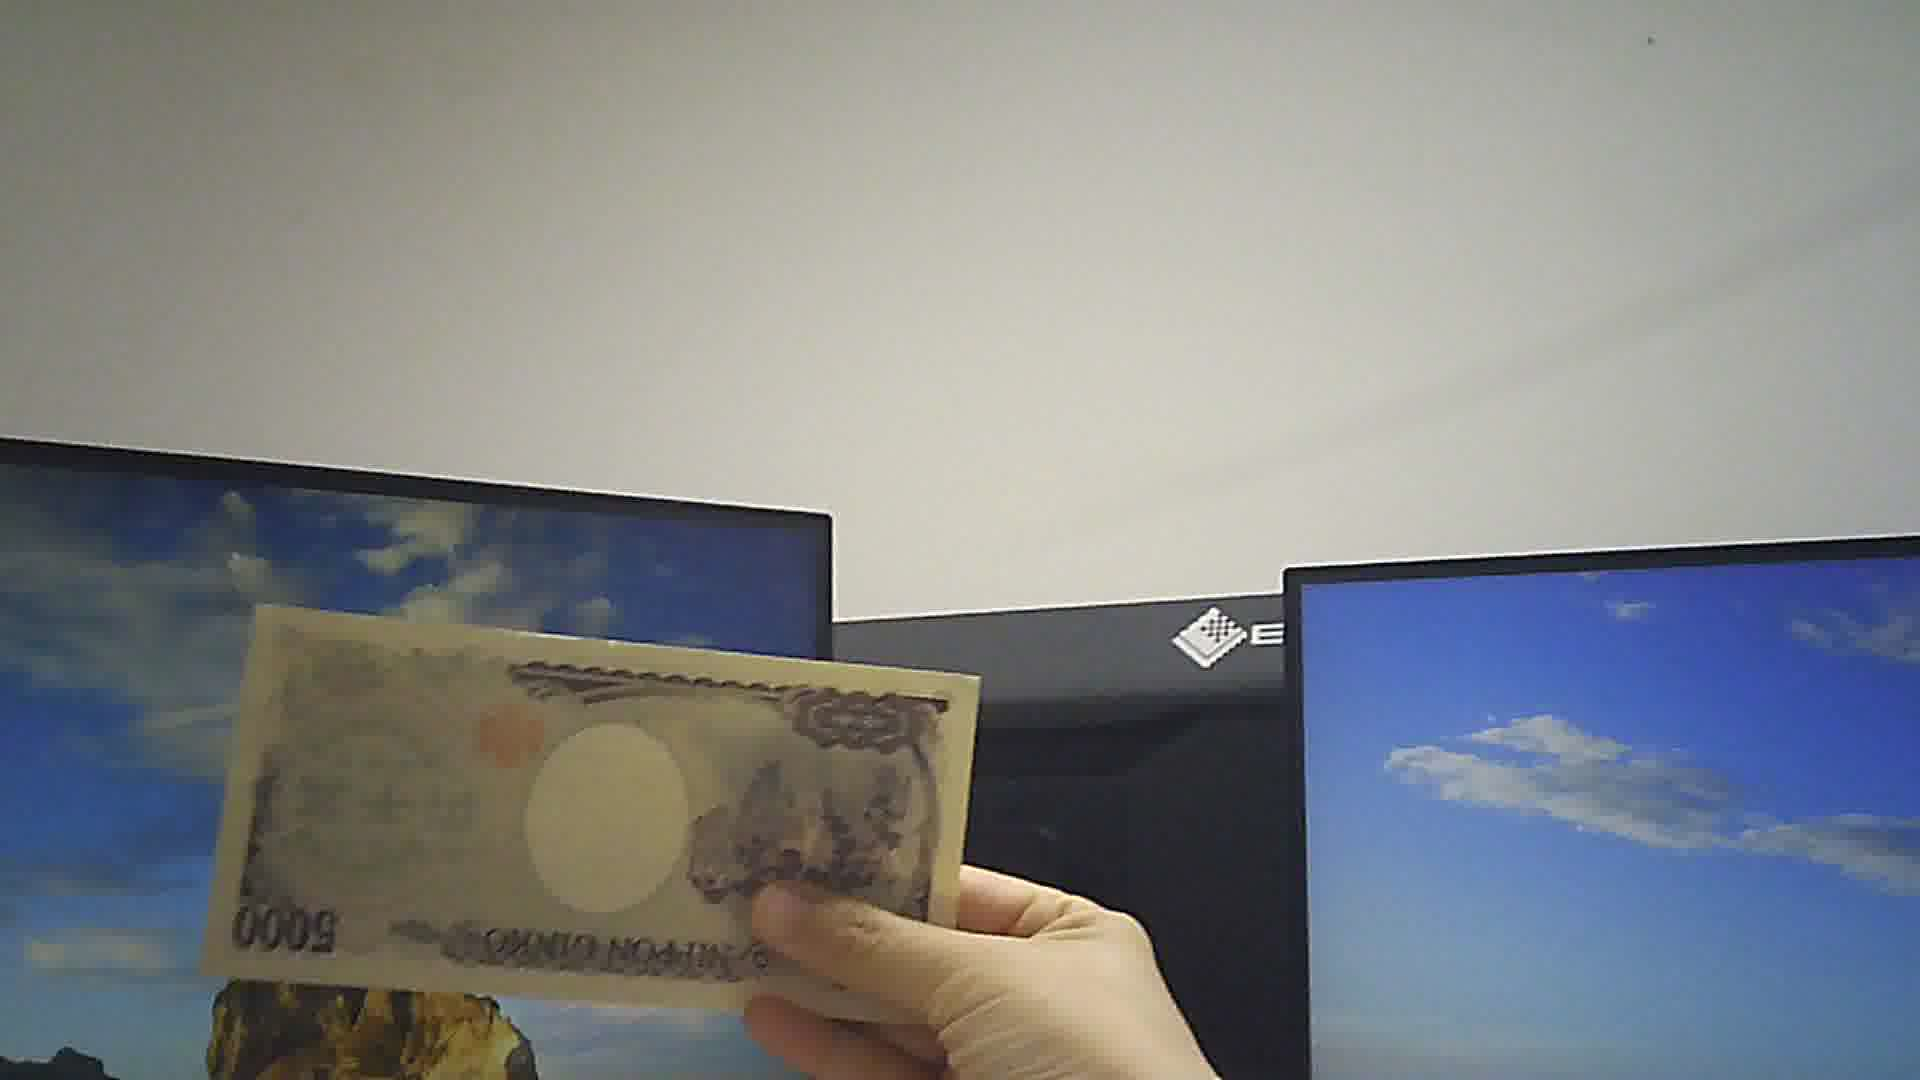5,000 Yen: (208, 596, 961, 1033)
